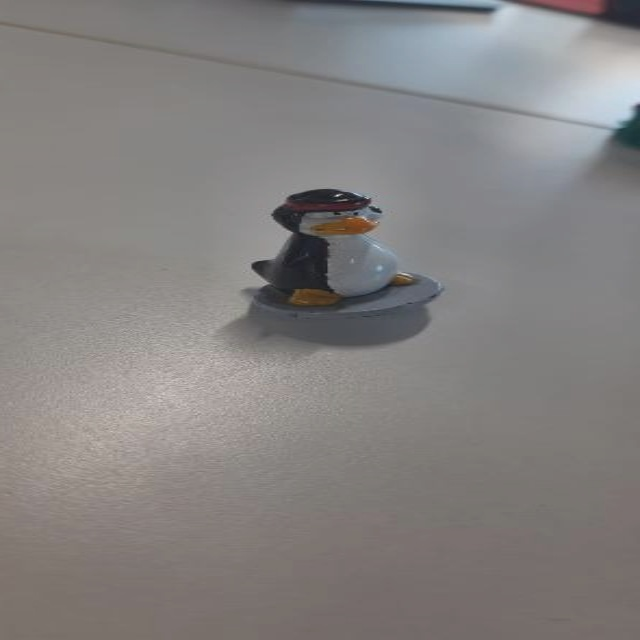Penguin: (229, 179, 444, 333)
